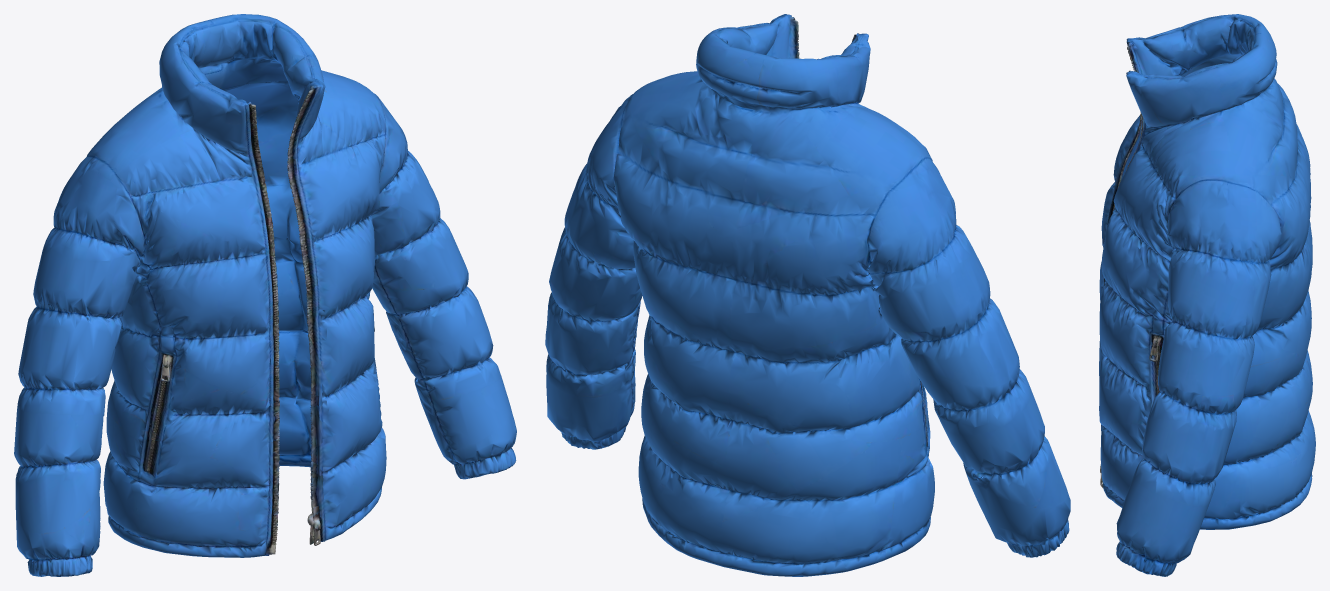
The model's file is blue.glb.
3 views of the same model, side by side, from view 1: azimuth 30°, elevation 25°; view 2: azimuth 150°, elevation 25°; view 3: azimuth 270°, elevation 25° (orthographic). The views are drawn at different scales.
Visible parts, largest first — view 1: mesh_node; view 2: mesh_node; view 3: mesh_node.
Boxes of the visible parts, x1,y1,x2,y2 form: mesh_node: [14, 14, 516, 576]; mesh_node: [545, 14, 1070, 576]; mesh_node: [1099, 14, 1315, 576].
Size of the model in its own units: 1.9 by 1.77 by 0.7774.
1 material, 1 textured.
